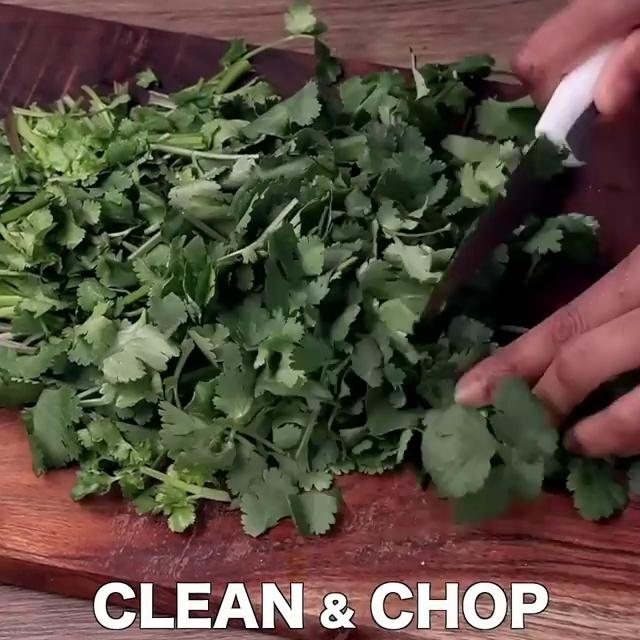cilantro: (0, 84, 414, 462)
